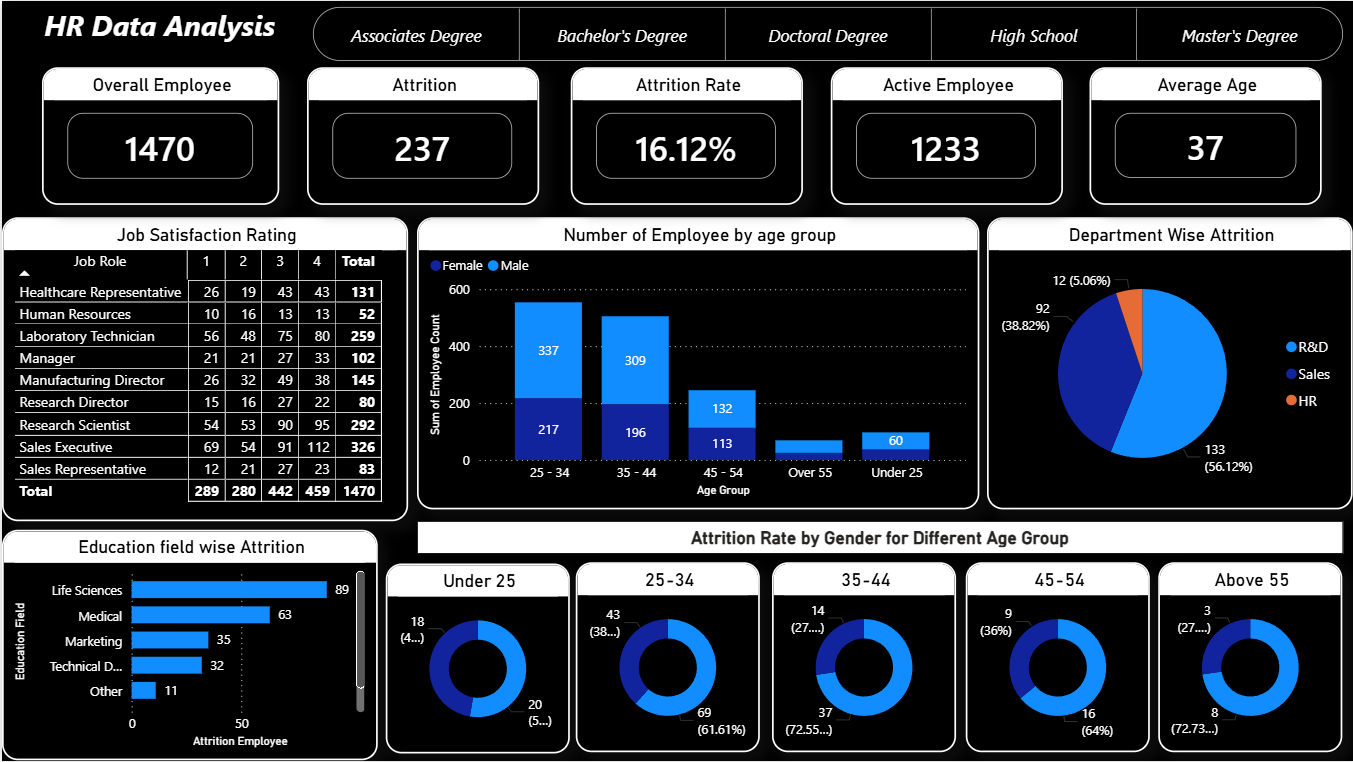

What the dashboard file says about the page in this screenshot:
{"tool":"powerbi","page":{"name":"Page 1","canvas":[1280,720],"ordinal":0},"visuals":[{"type":"textbox","box":[9.6,0,279.9,63],"z":0},{"type":"advancedSlicerVisual","fields":{"Values":["HR data.Education"]},"box":[289.5,0,990.7,63],"z":1000},{"type":"pivotTable","title":"Job Satisfaction Rating","fields":{"Columns":["HR data.Job Satisfaction"],"Rows":["HR data.Job Role"],"Values":["CountNonNull(HR data.Job Satisfaction)"]},"box":[0,204.7,384.9,288.4],"z":2000},{"type":"columnChart","title":"Number of Employee by age group","fields":{"Category":["HR data.CF_age band"],"Y":["Sum(HR data.Employee Count)"],"Series":["HR data.Gender"]},"box":[393,204.7,532.6,276.7],"z":3000},{"type":"pieChart","title":"Department Wise Attrition","fields":{"Category":["HR data.Department"],"Y":["Sum(HR data.attrition_emp)"]},"box":[933.7,204.7,346.5,276.7],"z":4000},{"type":"clusteredBarChart","title":"Education field wise Attrition","fields":{"Category":["HR data.Education Field"],"Y":["Sum(HR data.attrition_emp)"]},"box":[0,501.2,355.8,218.6],"z":5000},{"type":"donutChart","title":"Under 25","fields":{"Y":["Sum(HR data.attrition_emp)"],"Category":["HR data.Gender"],"Series":["HR data.CF_age band"]},"box":[364,532.6,174.4,180.2],"z":6000},{"type":"donutChart","title":"25-34","fields":{"Y":["Sum(HR data.attrition_emp)"],"Category":["HR data.Gender"],"Series":["HR data.CF_age band"]},"box":[544.2,531.4,174.4,180.2],"z":7000},{"type":"donutChart","title":"35-44","fields":{"Y":["Sum(HR data.attrition_emp)"],"Category":["HR data.Gender"],"Series":["HR data.CF_age band"]},"box":[729.1,531.4,174.4,180.2],"z":8000},{"type":"donutChart","title":"45-54","fields":{"Y":["Sum(HR data.attrition_emp)"],"Category":["HR data.Gender"],"Series":["HR data.CF_age band"]},"box":[912.8,531.4,174.4,180.2],"z":9000},{"type":"donutChart","title":"Above 55","fields":{"Y":["Sum(HR data.attrition_emp)"],"Category":["HR data.Gender"],"Series":["HR data.CF_age band"]},"box":[1095.4,531.4,174.4,180.2],"z":10000},{"type":"cardVisual","title":"Overall Employee","fields":{"Data":["CountNonNull(HR data.Employee Count)"]},"box":[38.4,62.8,224.4,130.2],"z":11000},{"type":"cardVisual","title":"Attrition","fields":{"Data":["Sum(HR data.attrition_emp)"]},"box":[289.5,62.8,219.8,130.2],"z":12000},{"type":"cardVisual","title":"Attrition Rate","fields":{"Data":["HR data.attrition_rate"]},"box":[538.4,62.8,219.8,130.2],"z":13000},{"type":"cardVisual","title":"Active Employee","fields":{"Data":["Sum(HR data.CF_current Employee)"]},"box":[784.9,62.8,219.8,130.2],"z":14000},{"type":"cardVisual","title":"Average Age","fields":{"Data":["Avg(HR data.Age)"]},"box":[1030.2,62.8,220,130],"z":15000},{"type":"textbox","title":"Attrition Rate by Gender for Different Age Group","box":[364.1,492.3,906.2,31.8],"z":16000}]}

Visuals, with their boxes in screenshot pixels (x1, y1, x2, y2), scaled from the page's 1280x720 canvas onto the 1353x762 screenshot:
textbox: 10,0,306,67
advancedSlicerVisual - HR data.Education: 306,0,1352,67
"Job Satisfaction Rating" pivotTable: 0,217,407,522
"Number of Employee by age group" columnChart: 415,217,978,509
"Department Wise Attrition" pieChart: 987,217,1352,509
"Education field wise Attrition" clusteredBarChart: 0,530,376,761
"Under 25" donutChart: 385,564,569,754
"25-34" donutChart: 575,562,760,753
"35-44" donutChart: 771,562,955,753
"45-54" donutChart: 965,562,1149,753
"Above 55" donutChart: 1158,562,1342,753
"Overall Employee" cardVisual: 41,66,278,204
"Attrition" cardVisual: 306,66,538,204
"Attrition Rate" cardVisual: 569,66,801,204
"Active Employee" cardVisual: 830,66,1062,204
"Average Age" cardVisual: 1089,66,1322,204
"Attrition Rate by Gender for Different Age Group" textbox: 385,521,1343,555
